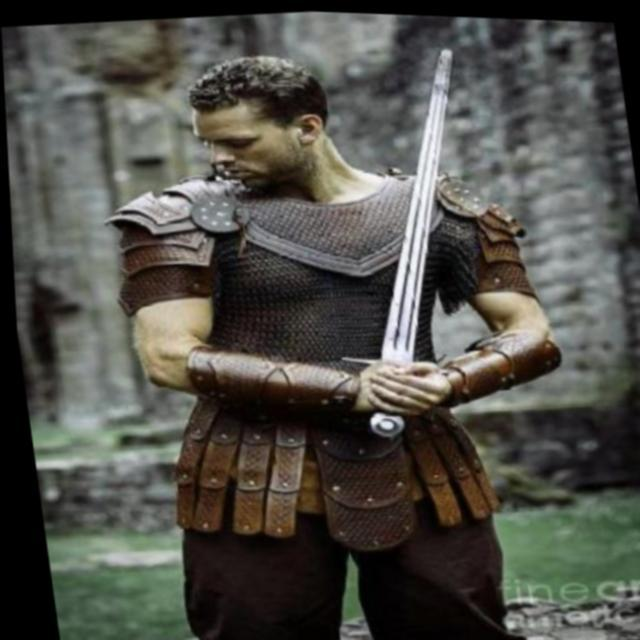weapon: (294, 40, 505, 446)
